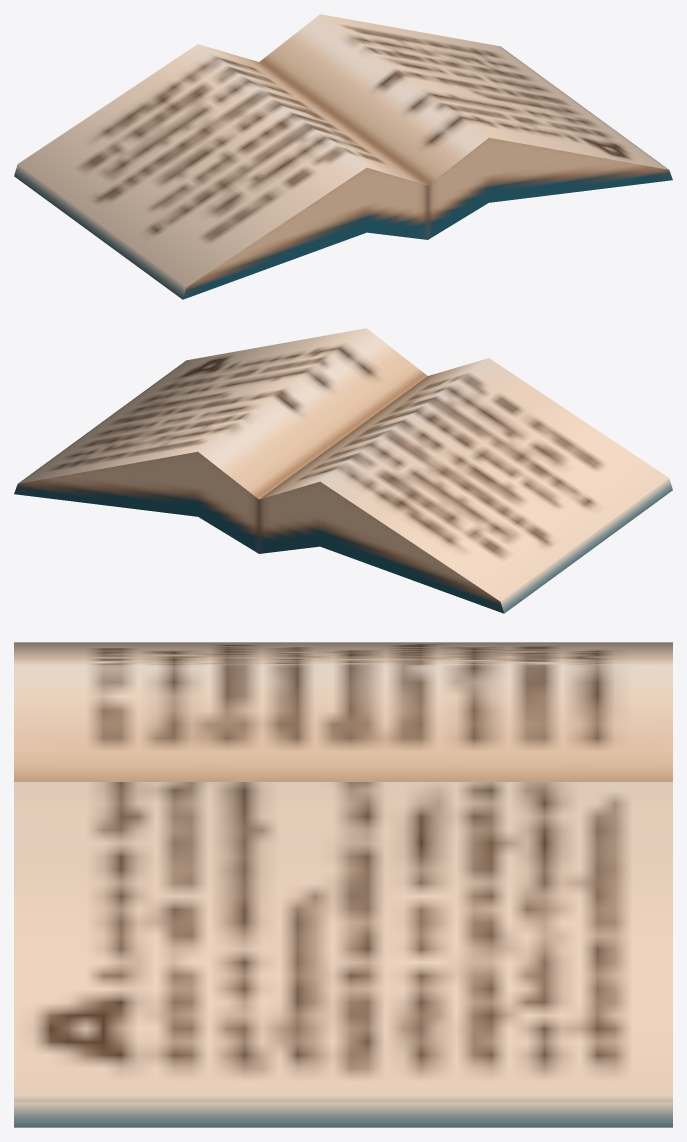
The model's file is TNP0110005.FBX.
3 renders of one model, top to bottom at view 1: azimuth 30°, elevation 25°; view 2: azimuth 150°, elevation 25°; view 3: azimuth 270°, elevation 25°, orthographic. The views are drawn at different scales.
Visible parts, largest first — view 1: smTNP0110005; view 2: smTNP0110005; view 3: smTNP0110005.
Boxes of the visible parts, left/top/right/bottom form: smTNP0110005: left=14, top=14, right=672, bottom=299; smTNP0110005: left=14, top=328, right=672, bottom=613; smTNP0110005: left=14, top=642, right=672, bottom=1127.
Size of the model in its own units: 0.5536 by 0.0943 by 0.3302.
1 material, 1 textured.
